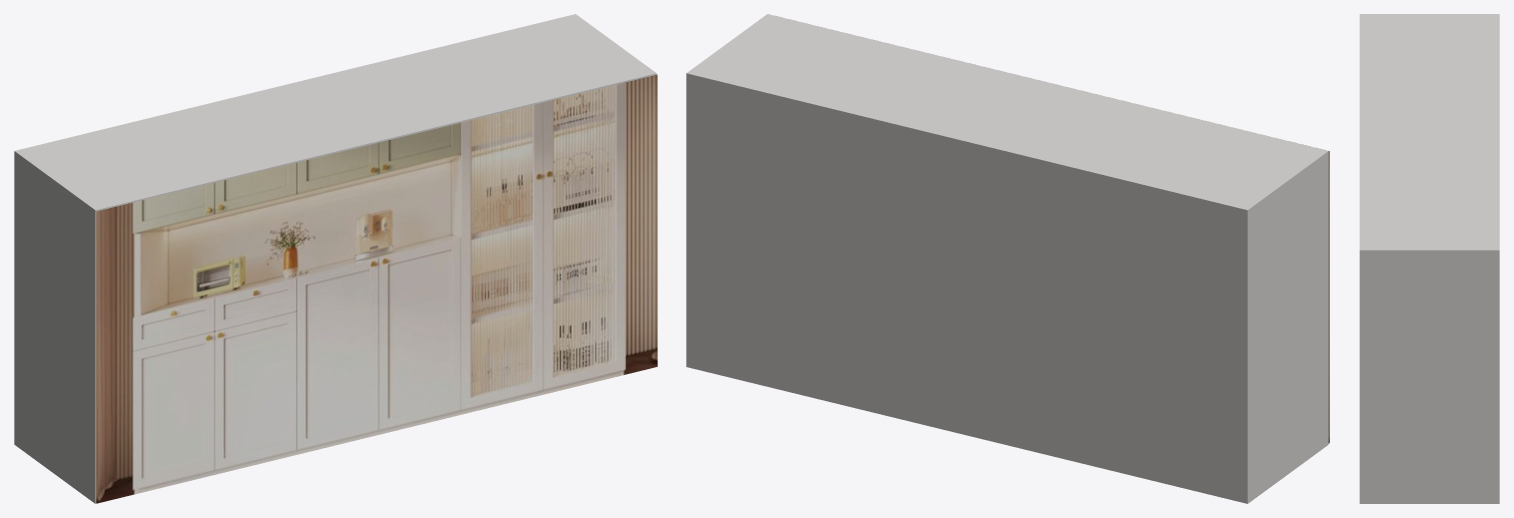
The model's file is mocan-59.glb.
3 renders of one model, left to right at view 1: azimuth 30°, elevation 25°; view 2: azimuth 150°, elevation 25°; view 3: azimuth 270°, elevation 25°, orthographic. The views are drawn at different scales.
Parts seen in each view (by area): view 1: furniture; view 2: furniture; view 3: furniture.
Boxes of the visible parts, x1,y1,x2,y2 form: furniture: (14, 14, 657, 503); furniture: (686, 14, 1329, 503); furniture: (1359, 14, 1499, 503).
Bounding box in the file's own units: 1.6 × 0.8 × 0.404.
Materials: 2 (1 with a texture image).
